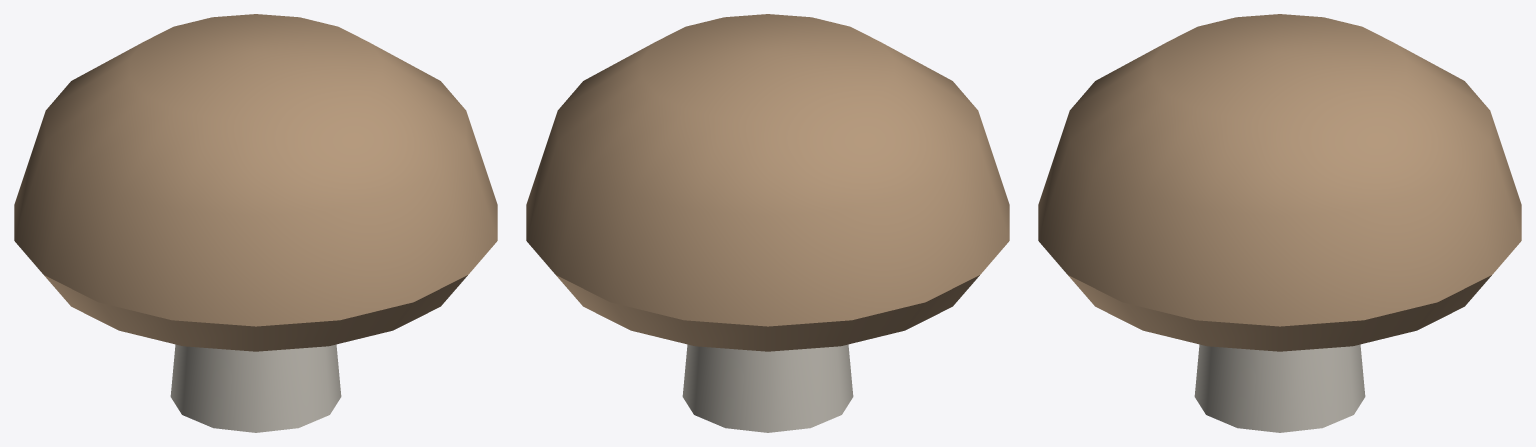
File: kr_mushroom.glb
3 renders of one model, left to right at view 1: azimuth 30°, elevation 25°; view 2: azimuth 150°, elevation 25°; view 3: azimuth 270°, elevation 25°, orthographic.
Parts seen in each view (by area): view 1: vc_m0_r6; view 2: vc_m0_r6; view 3: vc_m0_r6.
Boxes of the visible parts, bbox=[...] form: vc_m0_r6: bbox=[14, 14, 497, 432]; vc_m0_r6: bbox=[526, 14, 1009, 432]; vc_m0_r6: bbox=[1038, 14, 1521, 432].
Bounding box in the file's own units: 0.23 × 0.178 × 0.2265.
